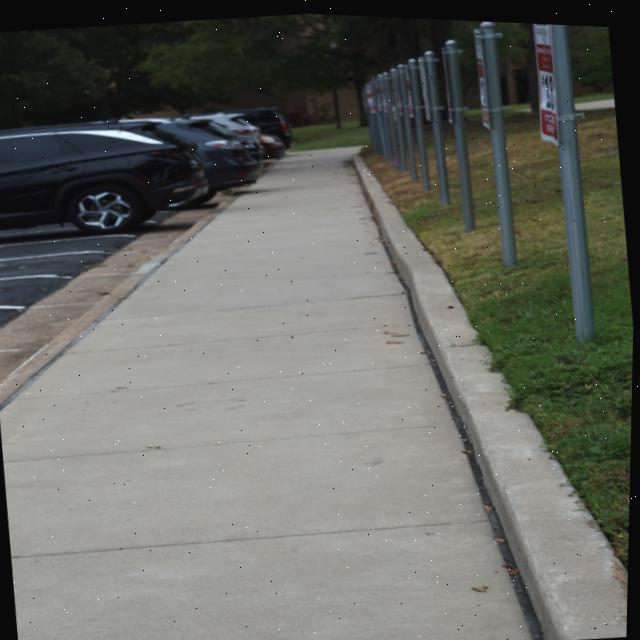Automobile: (0, 121, 208, 233), (161, 120, 261, 197), (242, 105, 294, 145), (190, 110, 261, 138), (260, 130, 286, 155)
Road: (0, 191, 224, 381)
Sidewalk: (1, 146, 535, 640)
